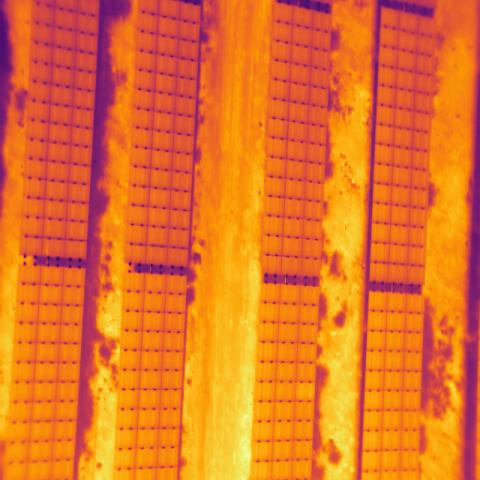fault: (295, 382, 315, 403)
